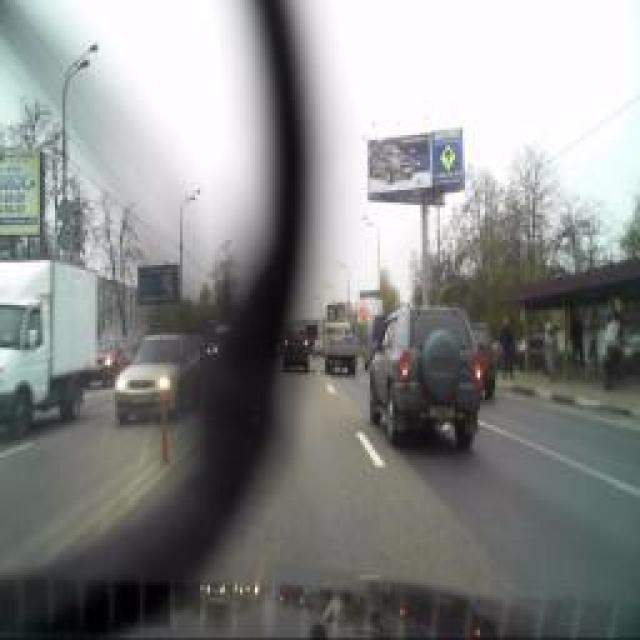sign: (436, 264, 444, 281)
